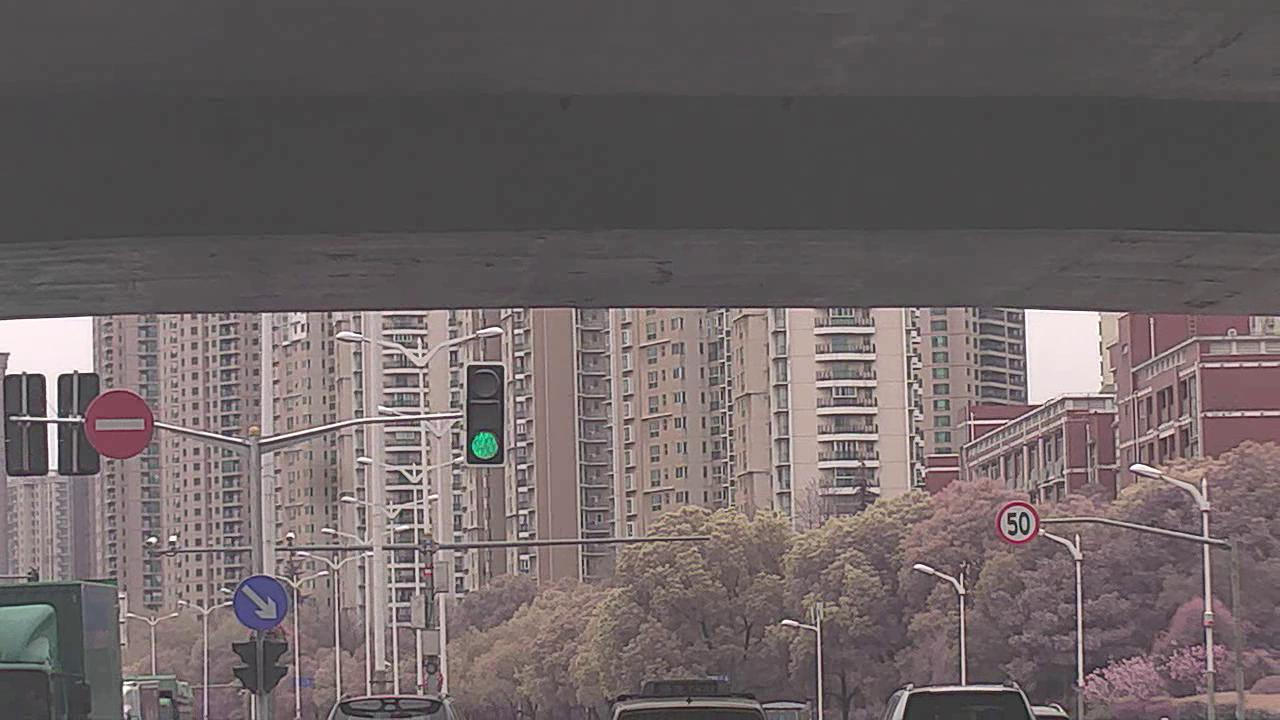traffic_light: (465, 357, 506, 467)
